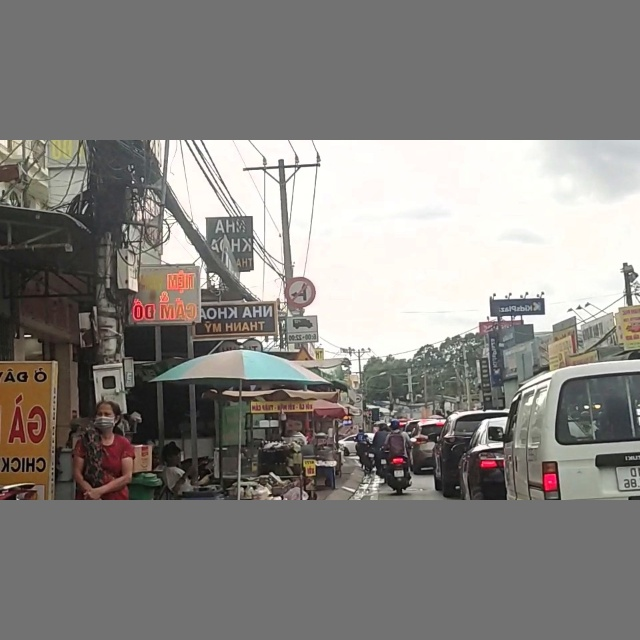P.139: (285, 276, 316, 306)
S.505a*Xe tai: (285, 315, 318, 343)
